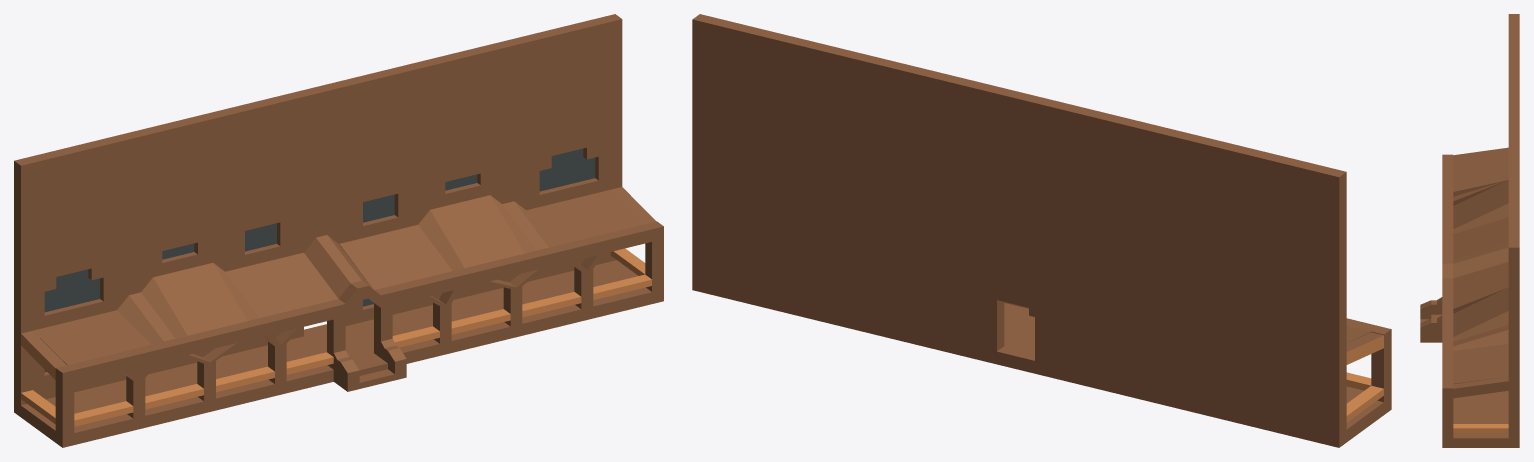
The model's file is horrorHouse.fbx.
3 renders of one model, left to right at view 1: azimuth 30°, elevation 25°; view 2: azimuth 150°, elevation 25°; view 3: azimuth 270°, elevation 25°, orthographic. The views are drawn at different scales.
Parts seen in each view (by area): view 1: Cube; view 2: Cube; view 3: Cube.
Part boxes in pixels (<box>): Cube: <box>14,14,663,447</box>; Cube: <box>692,14,1391,447</box>; Cube: <box>1420,14,1519,447</box>.
Size of the model in its own units: 5000 by 2000 by 900.
